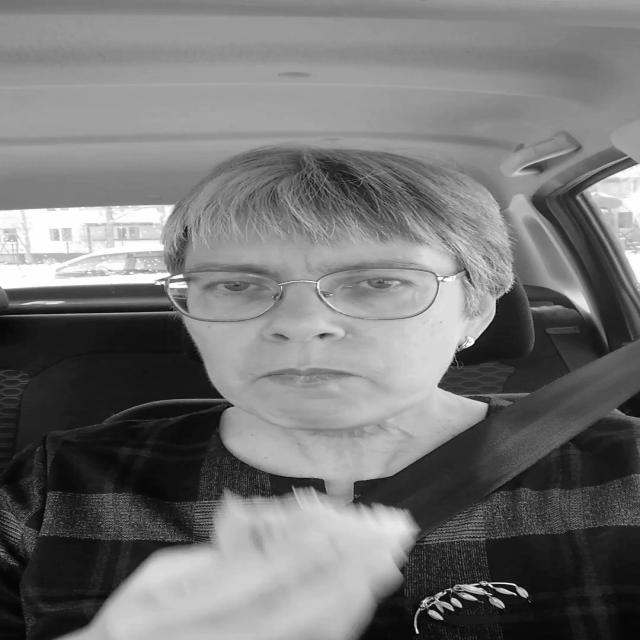Eating: (208, 479, 418, 606)
Seatbelt: (358, 340, 640, 524)
